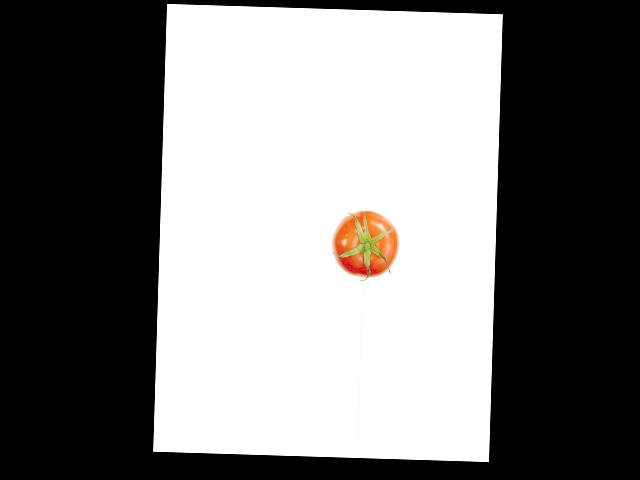tomato: (330, 209, 399, 278)
